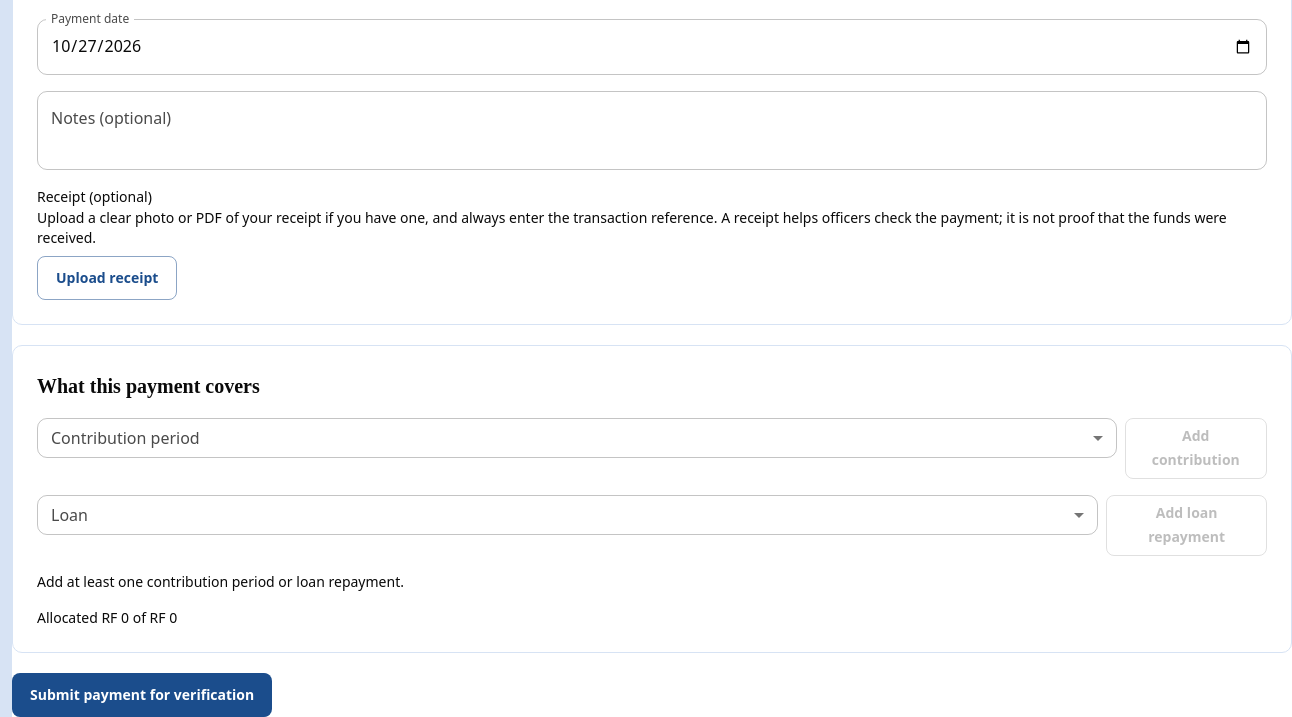
PaymentSubmitPanel › shows what a payment is, the legacy single-month path, and only open obligations
(page scrolled)
Expected: the button "Add contribution" is shown, [1124, 418, 1267, 479]
Click the 1st dropdown named "Contribution period". click: (577, 438)
box: [37, 418, 1116, 458]
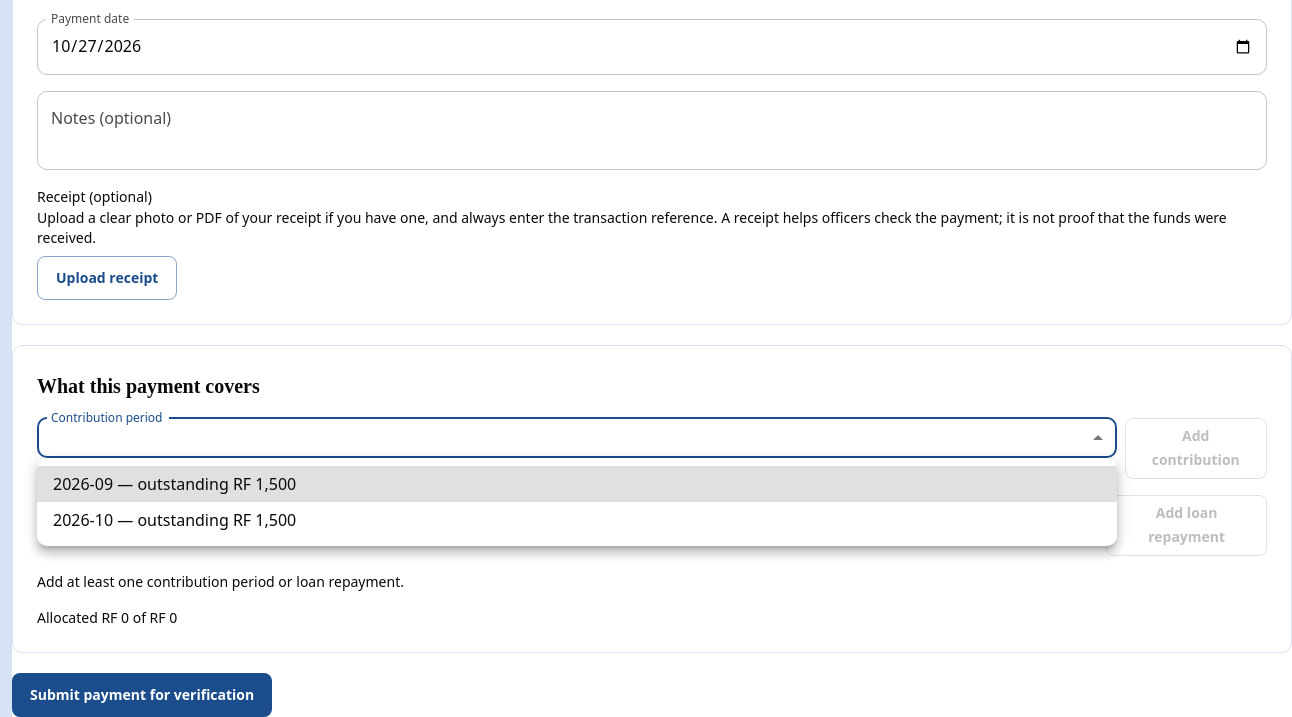
Result: the option "2026-09 — outstanding RF 1,500" is shown at [37, 466, 1117, 502]
Result: the option "2026-10 — outstanding RF 1,500" is shown at [53, 509, 296, 531]
